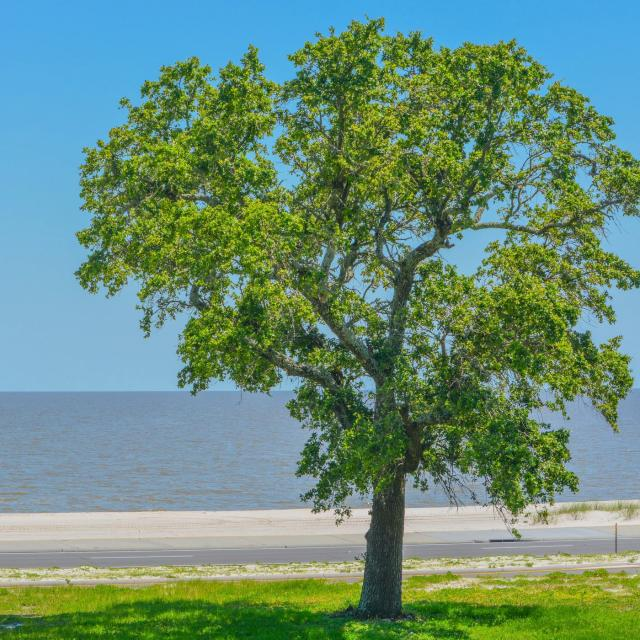Tree: (57, 11, 637, 615)
